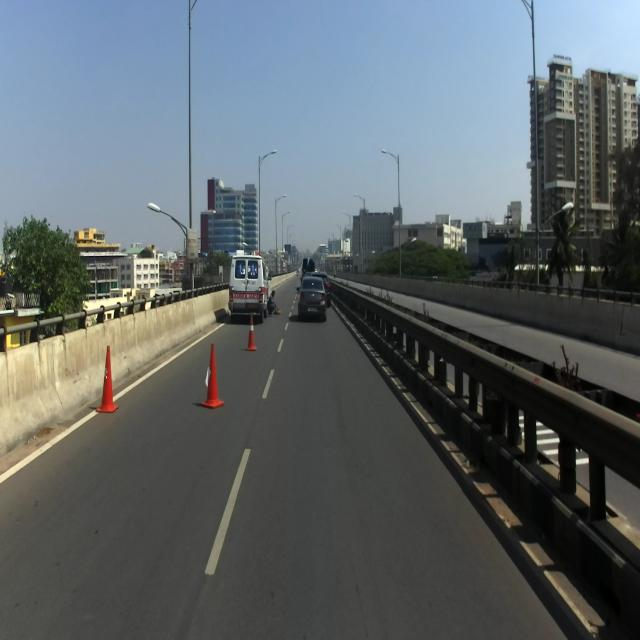barrier ahead at: (198, 342, 229, 418), (94, 338, 120, 422), (246, 314, 261, 358)
car ahead at: (295, 269, 331, 322)
